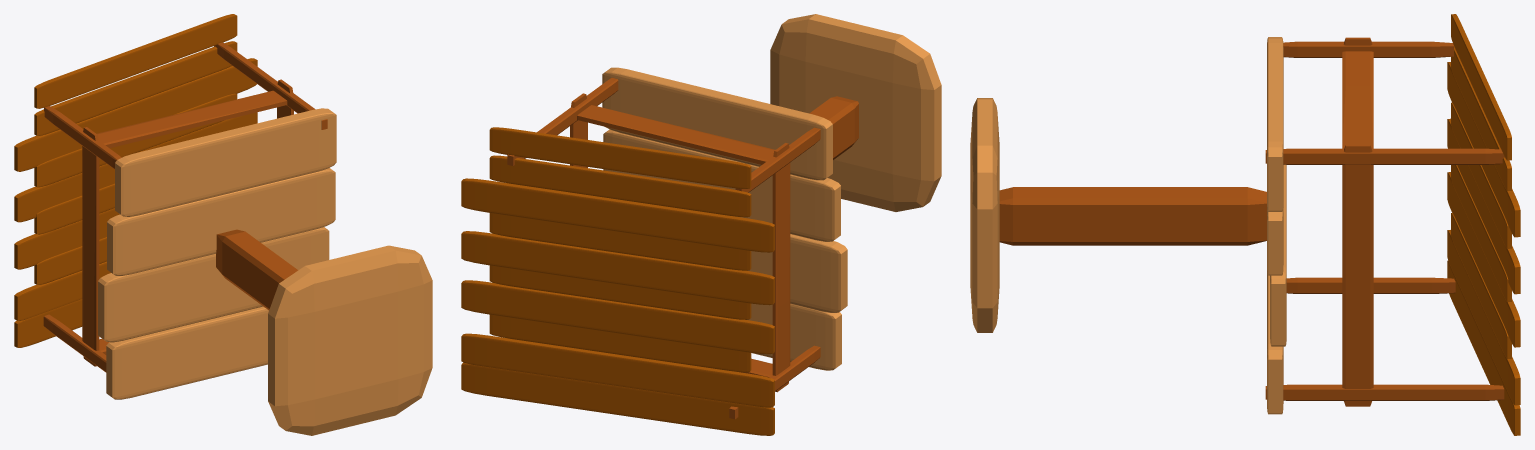
Rendered from woodenTower_g1.fbx.
3 renders of one model, left to right at view 1: azimuth 30°, elevation 25°; view 2: azimuth 150°, elevation 25°; view 3: azimuth 270°, elevation 25°, orthographic. The views are drawn at different scales.
Parts seen in each view (by area): view 1: WoodenTower_g1; view 2: WoodenTower_g1; view 3: WoodenTower_g1.
Boxes of the visible parts, box(x1,y1,x2,y2) form: WoodenTower_g1: box(14, 14, 432, 435); WoodenTower_g1: box(461, 14, 941, 435); WoodenTower_g1: box(970, 14, 1520, 435).
Bounding box in the file's own units: 366 × 332 × 572.
